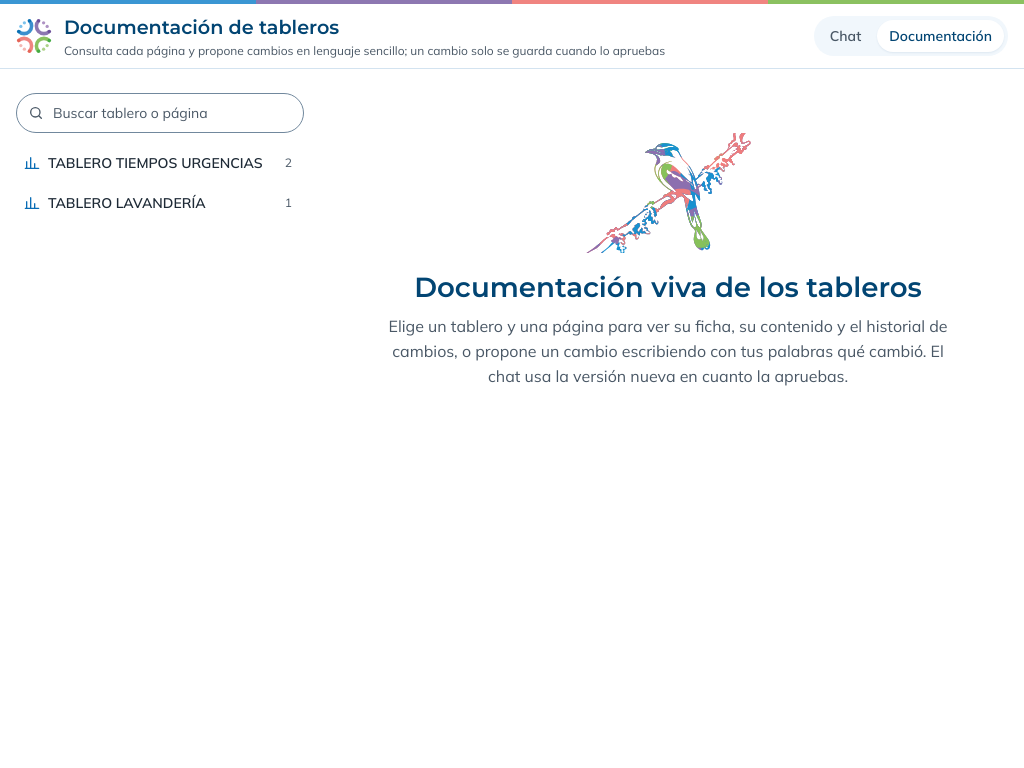
Scenario: Documentación: proponer y revisar › pide la nota antes de enviar
Click the button "TABLERO TIEMPOS URGENCIAS 2".
click(158, 163)  # box [16,145,300,181]
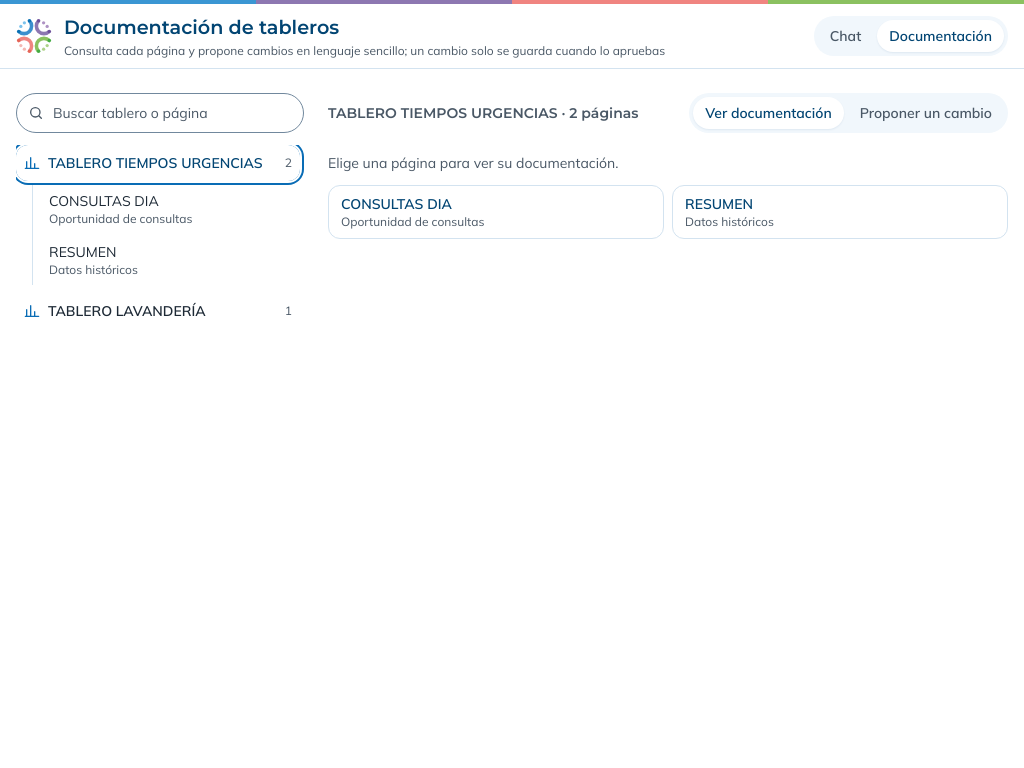
Click the 1st button "CONSULTAS DIA Oportunidad de consultas".
click(170, 209)  # box [41,185,300,233]
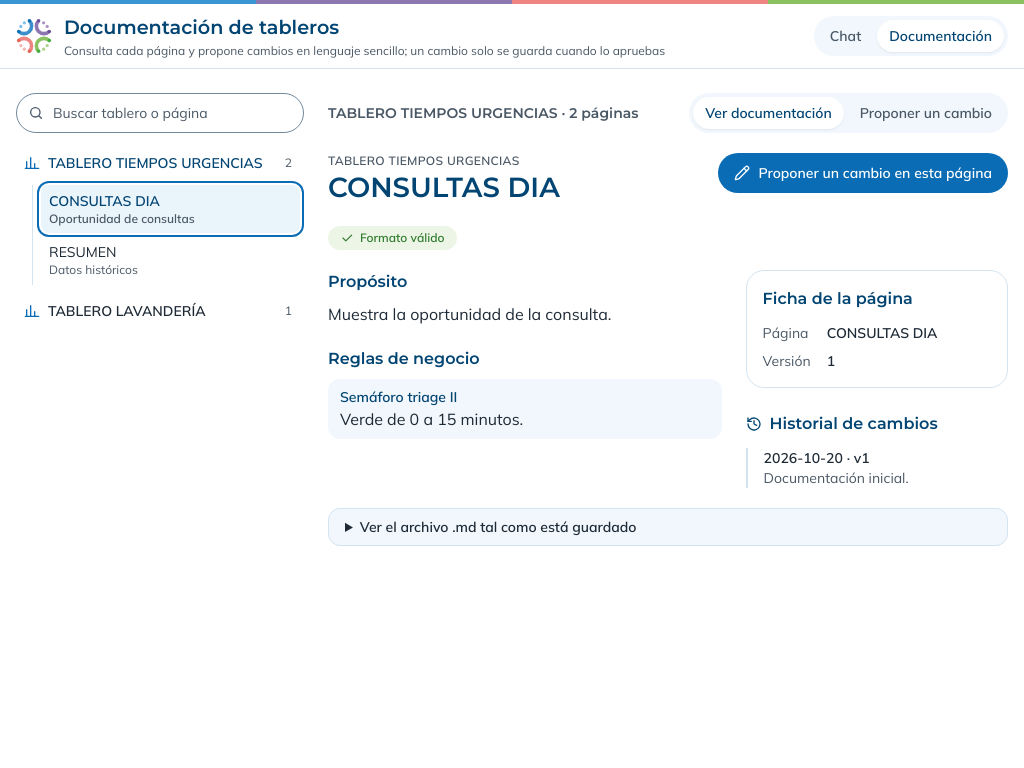
Expected: the heading "CONSULTAS DIA" is shown, [328,170,560,204]
Click the button "Proponer un cambio en esta página".
click(863, 173)  # box [718,153,1008,193]
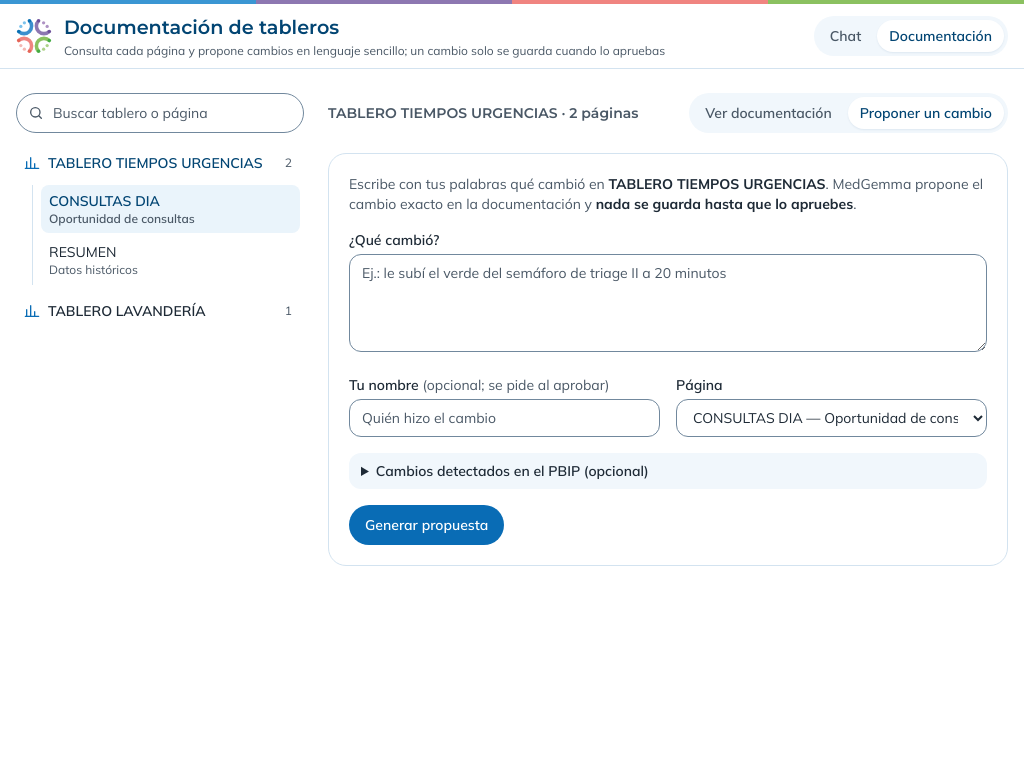
Click the button "Generar propuesta".
click(427, 525)  # box [349,505,504,545]
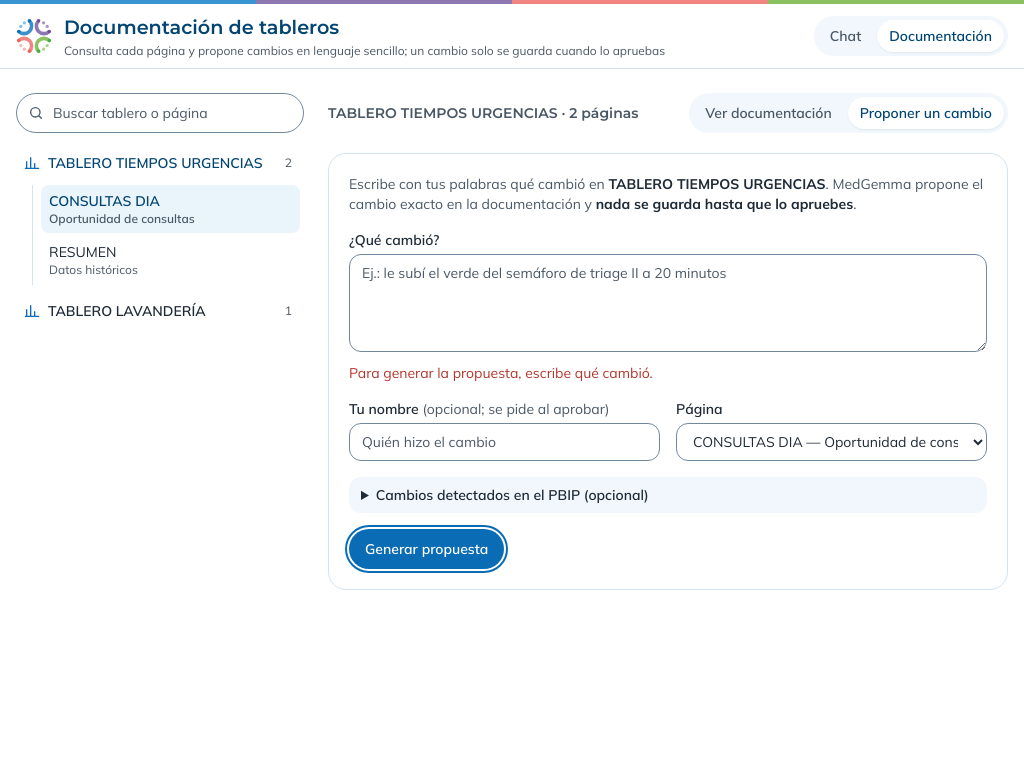
Expected: the text "Para generar la propuesta, escribe qué cambió." is shown, [349,364,653,382]
